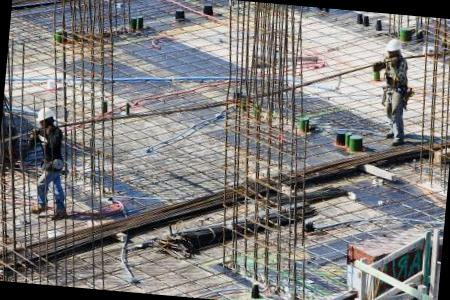person: (28, 105, 78, 220), (370, 36, 414, 148)
